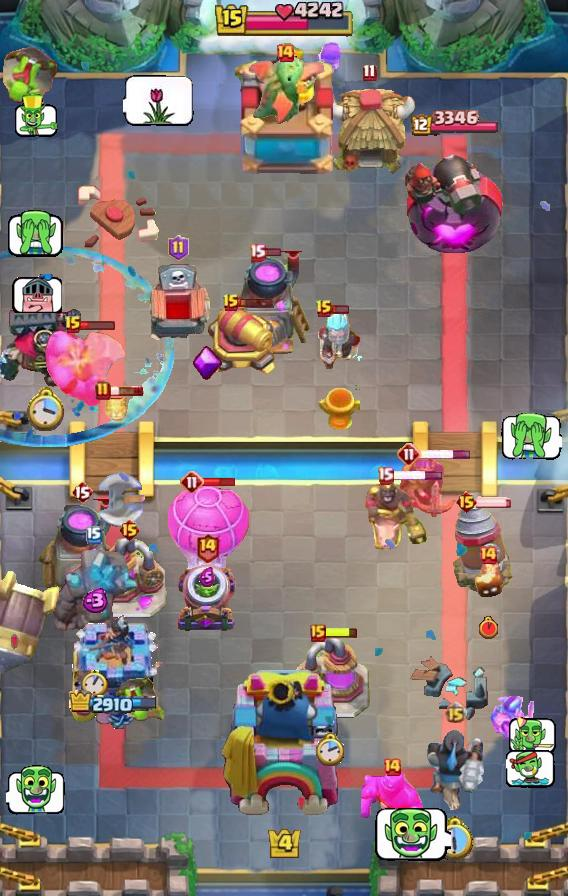archer-queen: (41, 329, 129, 409)
bar-level: (0, 42, 60, 118), (115, 676, 169, 724)
barbarian-hut: (392, 454, 464, 520)
bomber: (473, 561, 503, 599)
cannon-cart: (165, 479, 253, 587)
cannoneer-tower: (49, 549, 139, 651)
clock: (213, 0, 355, 40)
electro-spirit: (79, 588, 109, 613), (199, 567, 215, 587)
electro-wizard: (245, 56, 325, 128)
elixir: (436, 816, 477, 861), (27, 385, 67, 431), (316, 732, 346, 768), (81, 670, 107, 699), (478, 616, 498, 640)
elixir-golem-mid: (143, 263, 213, 349)
emote: (391, 470, 444, 482), (419, 448, 472, 459), (323, 625, 359, 638), (475, 496, 513, 508), (237, 297, 274, 309), (108, 385, 144, 397), (202, 476, 238, 488), (80, 320, 116, 331), (331, 304, 350, 315), (262, 247, 281, 257)
freeze: (363, 481, 429, 553)
giant-snowball: (489, 695, 537, 747)
goblin: (315, 40, 345, 80)
goblin-cage: (175, 564, 239, 634)
hunter: (224, 251, 314, 359), (37, 499, 127, 607)
ice-spirit-evolution: (102, 392, 130, 424)
inferno-dragon: (424, 729, 486, 819)
inferno-tower: (0, 305, 116, 389)
king-tower: (219, 670, 349, 826), (228, 41, 340, 181)
magic-archer: (453, 499, 513, 593)
mortar: (310, 307, 366, 369)
pad_0: (0, 245, 174, 447)
pekka: (90, 538, 168, 620), (292, 638, 370, 720)
prince: (322, 87, 416, 177)
queen-tower: (65, 614, 162, 730)
royal-giant: (96, 471, 152, 529)
royal-recruit: (202, 302, 280, 378)
selected: (408, 110, 498, 138), (68, 690, 159, 717)
skeleton: (373, 805, 451, 864), (123, 74, 195, 126), (502, 411, 563, 461), (6, 765, 66, 815), (6, 210, 66, 258), (12, 93, 59, 138), (508, 712, 557, 755), (506, 749, 556, 791), (10, 274, 61, 314)
skeleton-king-skill: (193, 346, 223, 382)
text: (195, 532, 220, 563), (397, 442, 421, 466), (180, 470, 204, 494), (455, 490, 478, 514), (118, 518, 141, 542), (445, 700, 468, 724), (167, 235, 188, 261), (71, 480, 93, 504), (275, 43, 295, 63), (478, 545, 498, 565), (382, 757, 402, 777), (222, 293, 240, 313), (315, 299, 333, 319), (64, 315, 82, 335), (95, 381, 111, 401), (249, 243, 266, 261), (377, 467, 394, 485), (86, 526, 102, 544), (310, 624, 326, 642), (362, 63, 377, 81)
tornado: (361, 769, 423, 829)
tower-bar: (403, 138, 503, 256)
x-bow: (0, 568, 60, 675)
